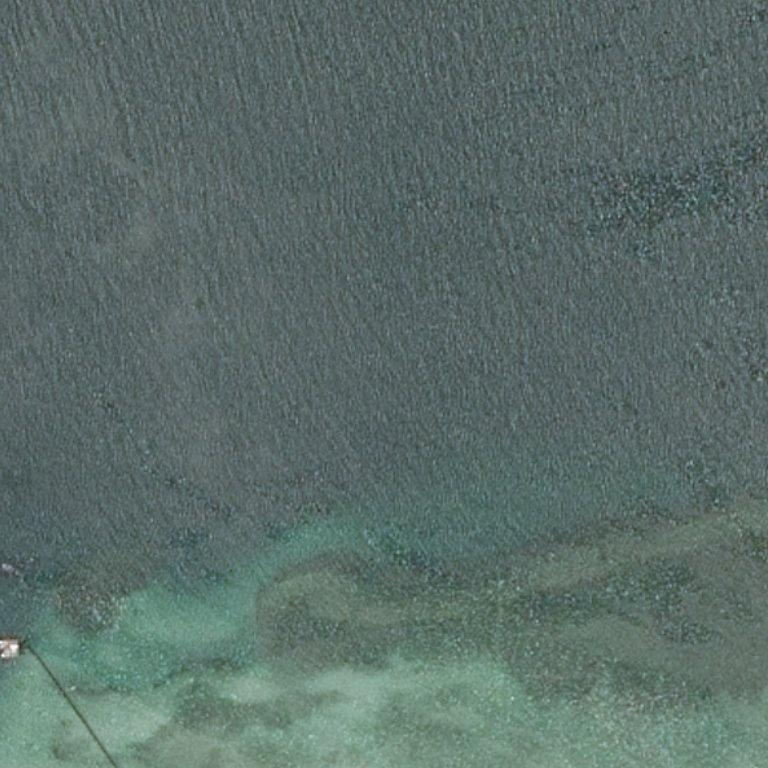ship: (0, 638, 23, 659), (0, 561, 20, 578)
